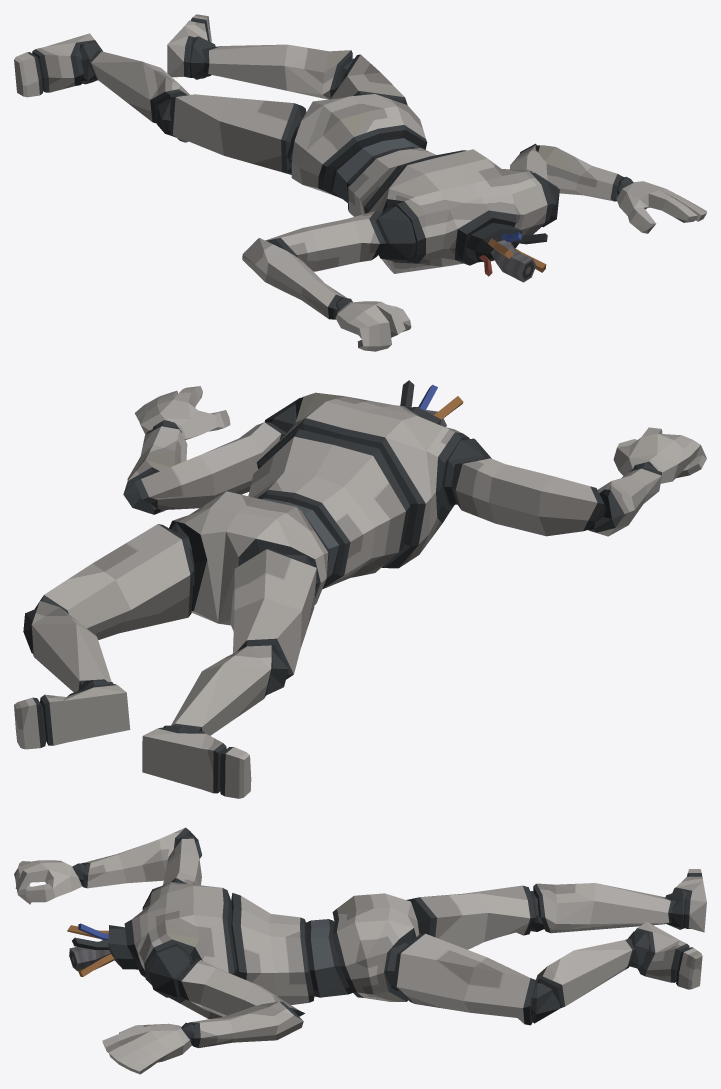
The model's file is cyber_SM_Prop_Robot_Posed_05.gltf.
The picture shows the model from 3 angles, top to bottom: view 1: azimuth 30°, elevation 25°; view 2: azimuth 150°, elevation 25°; view 3: azimuth 270°, elevation 25°; orthographic projection. The views are drawn at different scales.
Visible parts, largest first — view 1: SM_Prop_Robot_Posed_05; view 2: SM_Prop_Robot_Posed_05; view 3: SM_Prop_Robot_Posed_05.
Boxes of the visible parts, x1,y1,x2,y2 form: SM_Prop_Robot_Posed_05: (14,14,706,351); SM_Prop_Robot_Posed_05: (14,380,706,798); SM_Prop_Robot_Posed_05: (14,827,706,1074).
Size of the model in its own units: 1.19 by 0.2919 by 1.76.
1 material, 1 textured.
